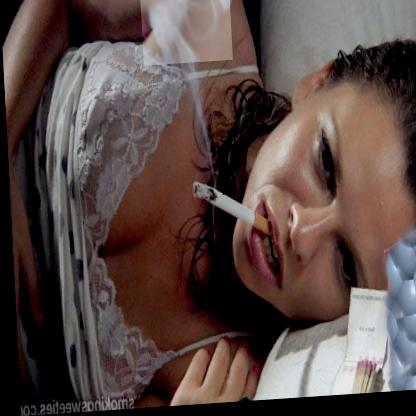smoke: (140, 0, 232, 68)
